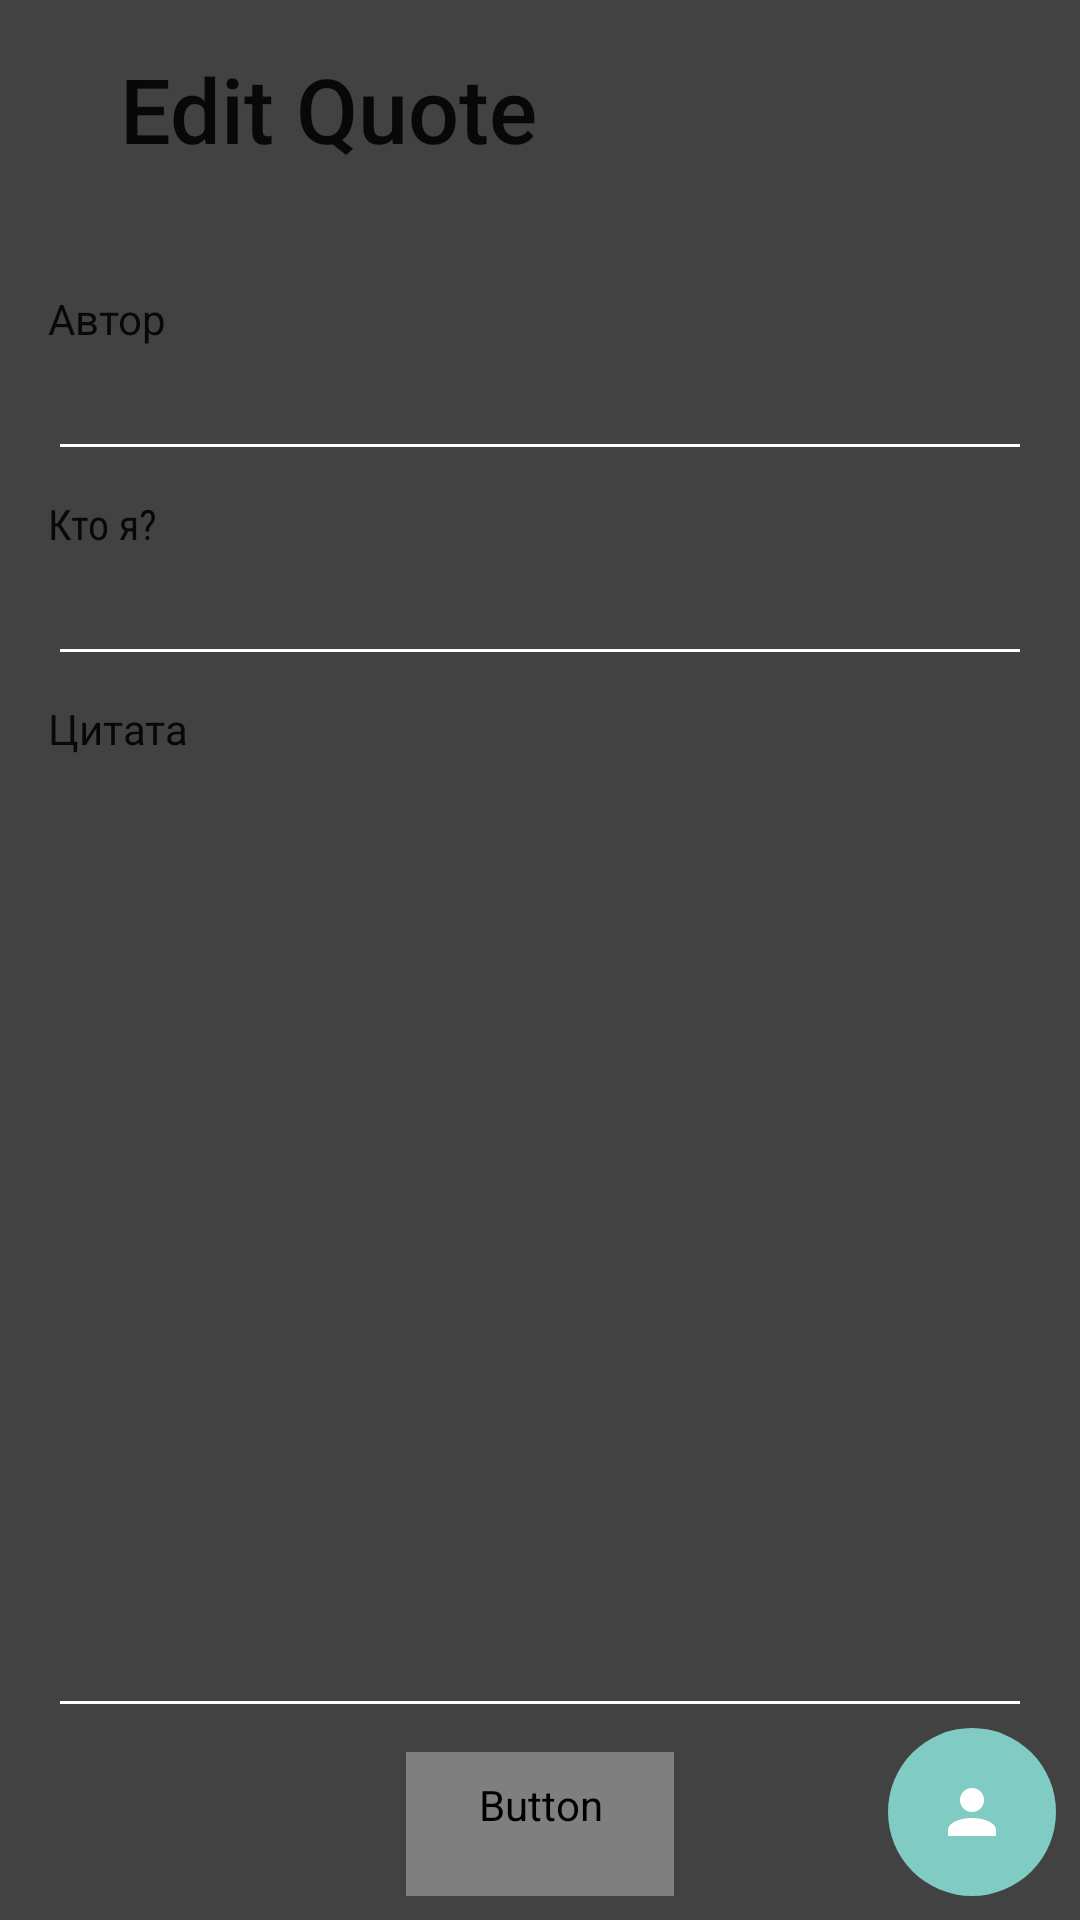

Locate icon controls on the screen. Image size 1080px x 1920px, boxes as (x1, y1, x2, y2).
account: (888, 1728, 1056, 1896)
